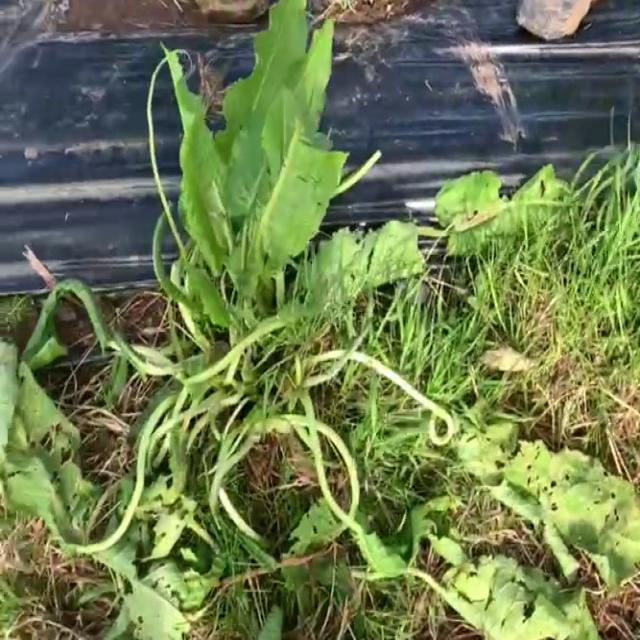organic waste: (74, 56, 442, 540), (219, 285, 640, 640), (75, 39, 439, 400), (0, 247, 287, 625), (362, 104, 592, 296)
